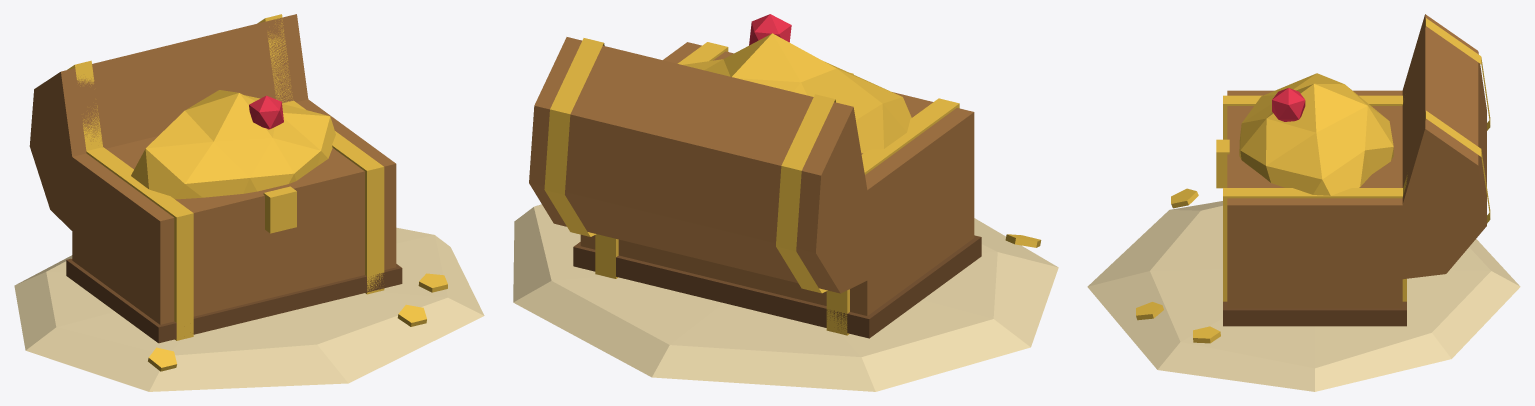
File: treasure_chest.glb
The picture shows the model from 3 angles, left to right: view 1: azimuth 30°, elevation 25°; view 2: azimuth 150°, elevation 25°; view 3: azimuth 270°, elevation 25°; orthographic projection. The views are drawn at different scales.
Visible parts, largest first — view 1: treasure_chest; view 2: treasure_chest; view 3: treasure_chest.
Part boxes in pixels (x1,y1,x2,y2): treasure_chest: (14,14,484,391); treasure_chest: (513,14,1058,391); treasure_chest: (1087,14,1520,391).
Bounding box in the file's own units: 1.12 × 0.5509 × 0.9901.
